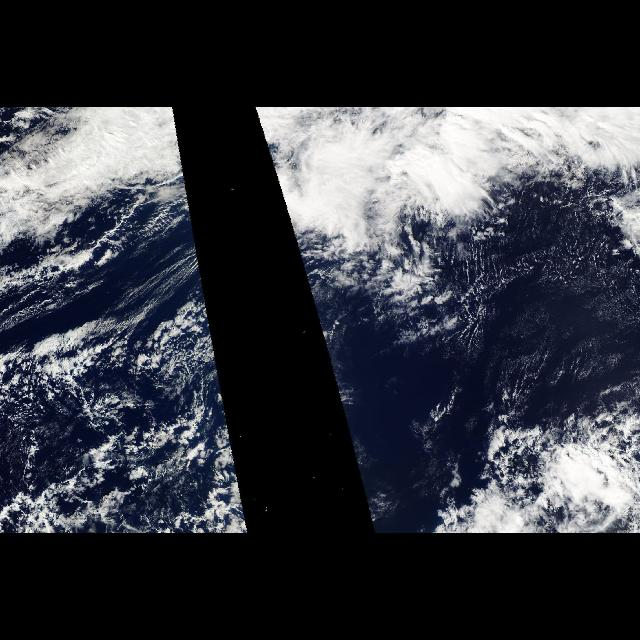Gravel: (6, 316, 250, 532), (456, 186, 634, 318)
Sugar: (502, 245, 640, 408)
